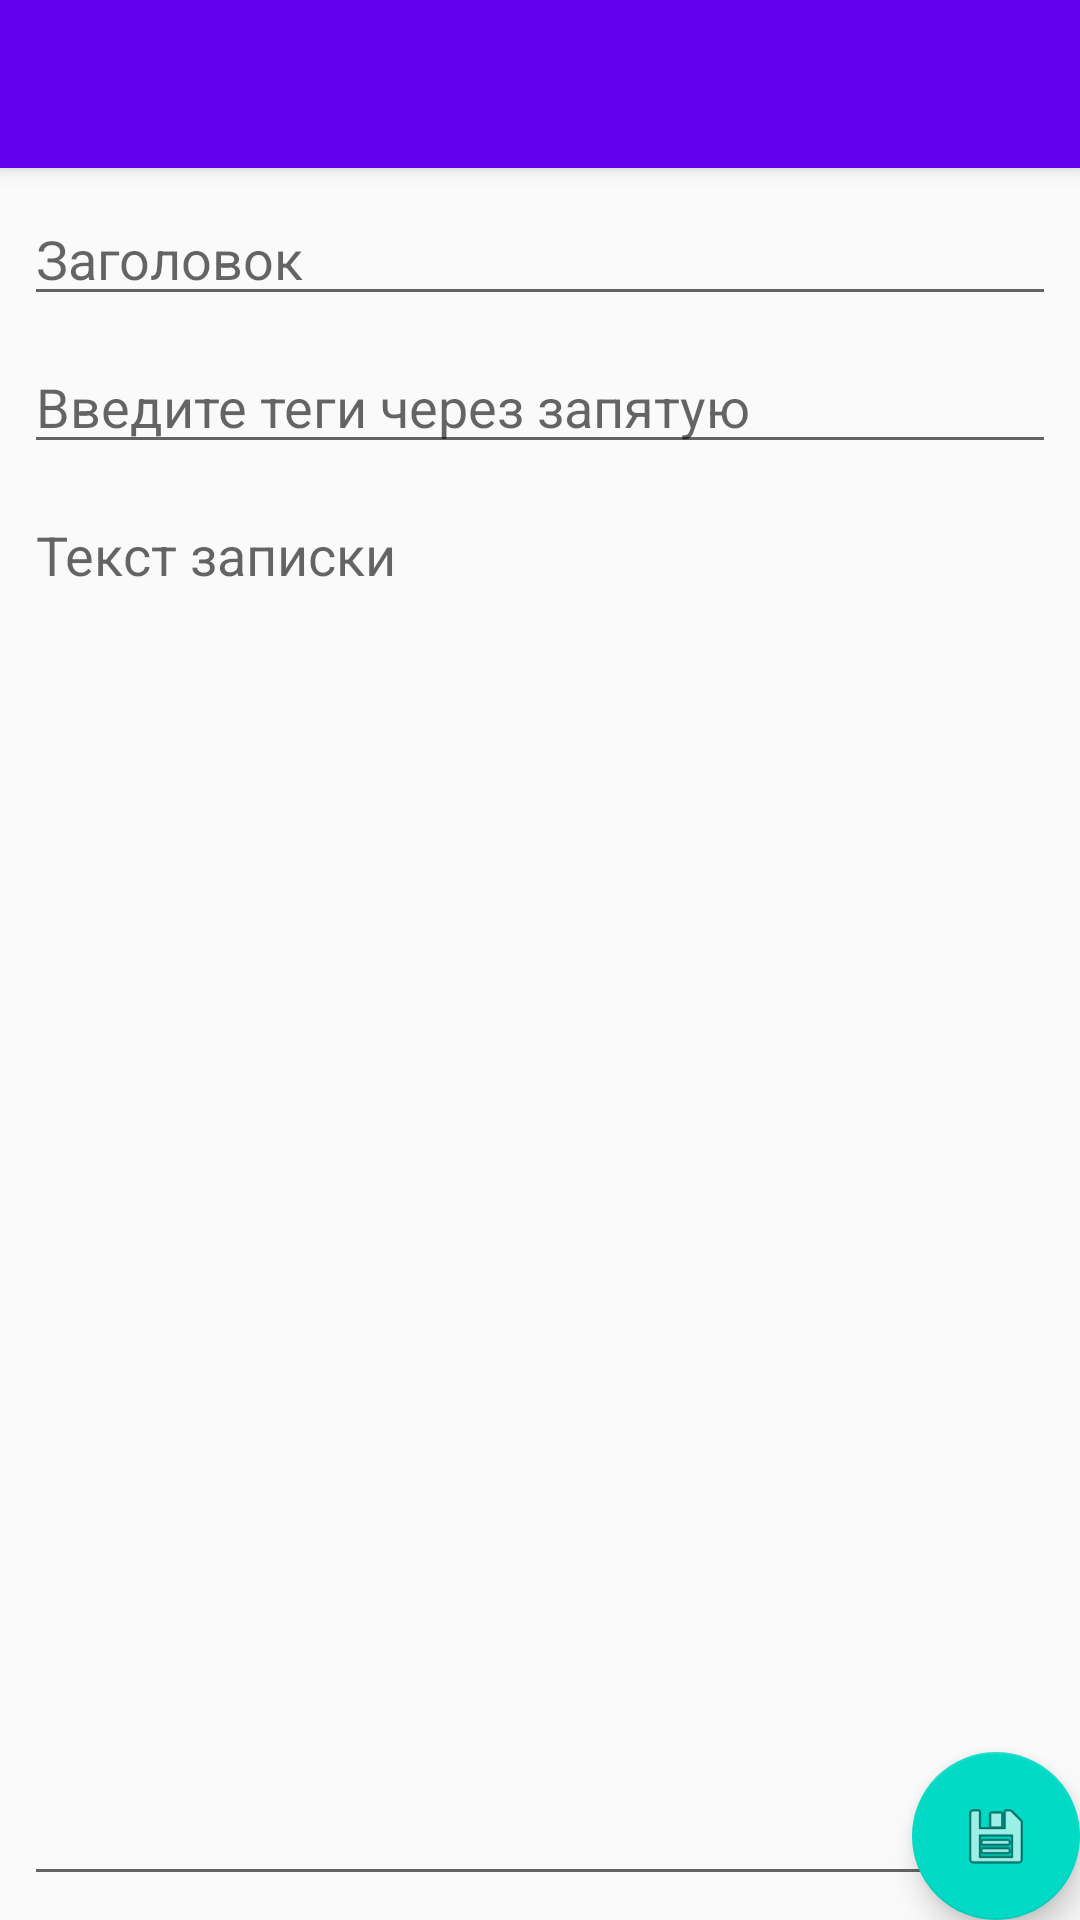

Where to tap for icons on this 1080w x 1920h app screen, as (x=x, y=y):
save: (x=996, y=1836)
